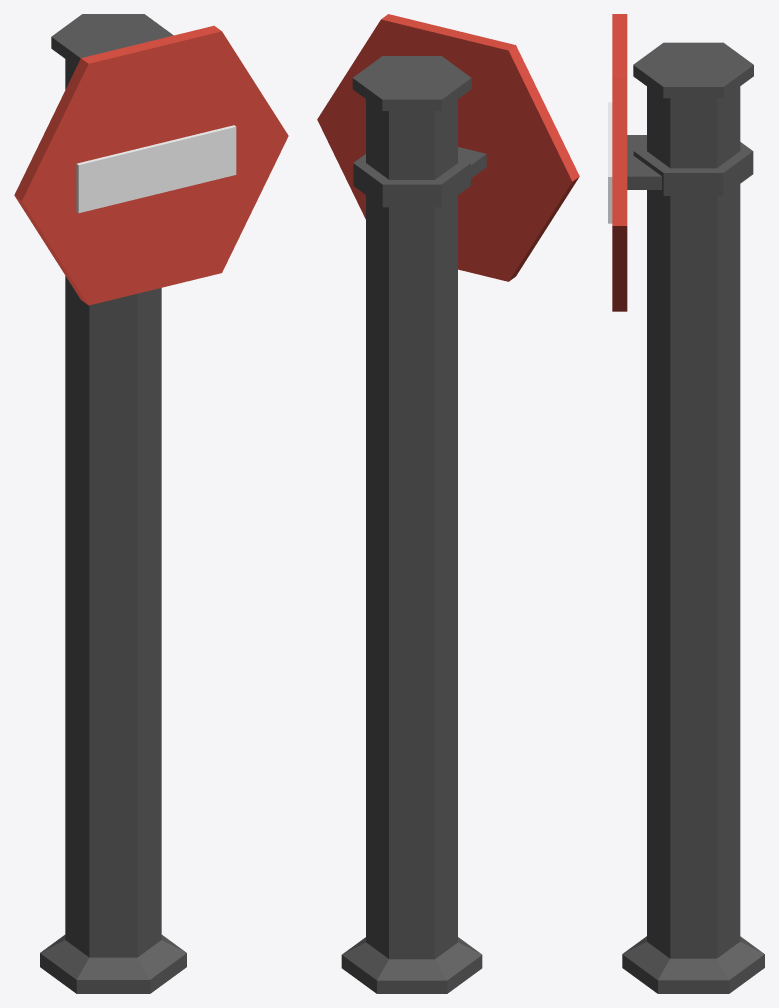
Rendered from traffic_10.fbx.
3 views of the same model, side by side, from view 1: azimuth 30°, elevation 25°; view 2: azimuth 150°, elevation 25°; view 3: azimuth 270°, elevation 25° (orthographic). The views are drawn at different scales.
Visible parts, largest first — view 1: Cylinder.027, Cylinder.028; view 2: Cylinder.027, Cylinder.028; view 3: Cylinder.027, Cylinder.028, Cube.011.
Part boxes in pixels (x1,y1,x2,y2): Cylinder.027: (40,14,186,993); Cylinder.028: (14,25,288,305); Cylinder.027: (341,56,482,993); Cylinder.028: (317,14,579,281); Cylinder.027: (622,42,764,993); Cylinder.028: (608,14,627,311); Cube.011: (627,135,661,189).
Size of the model in its own units: 80.4 by 274 by 42.19.
